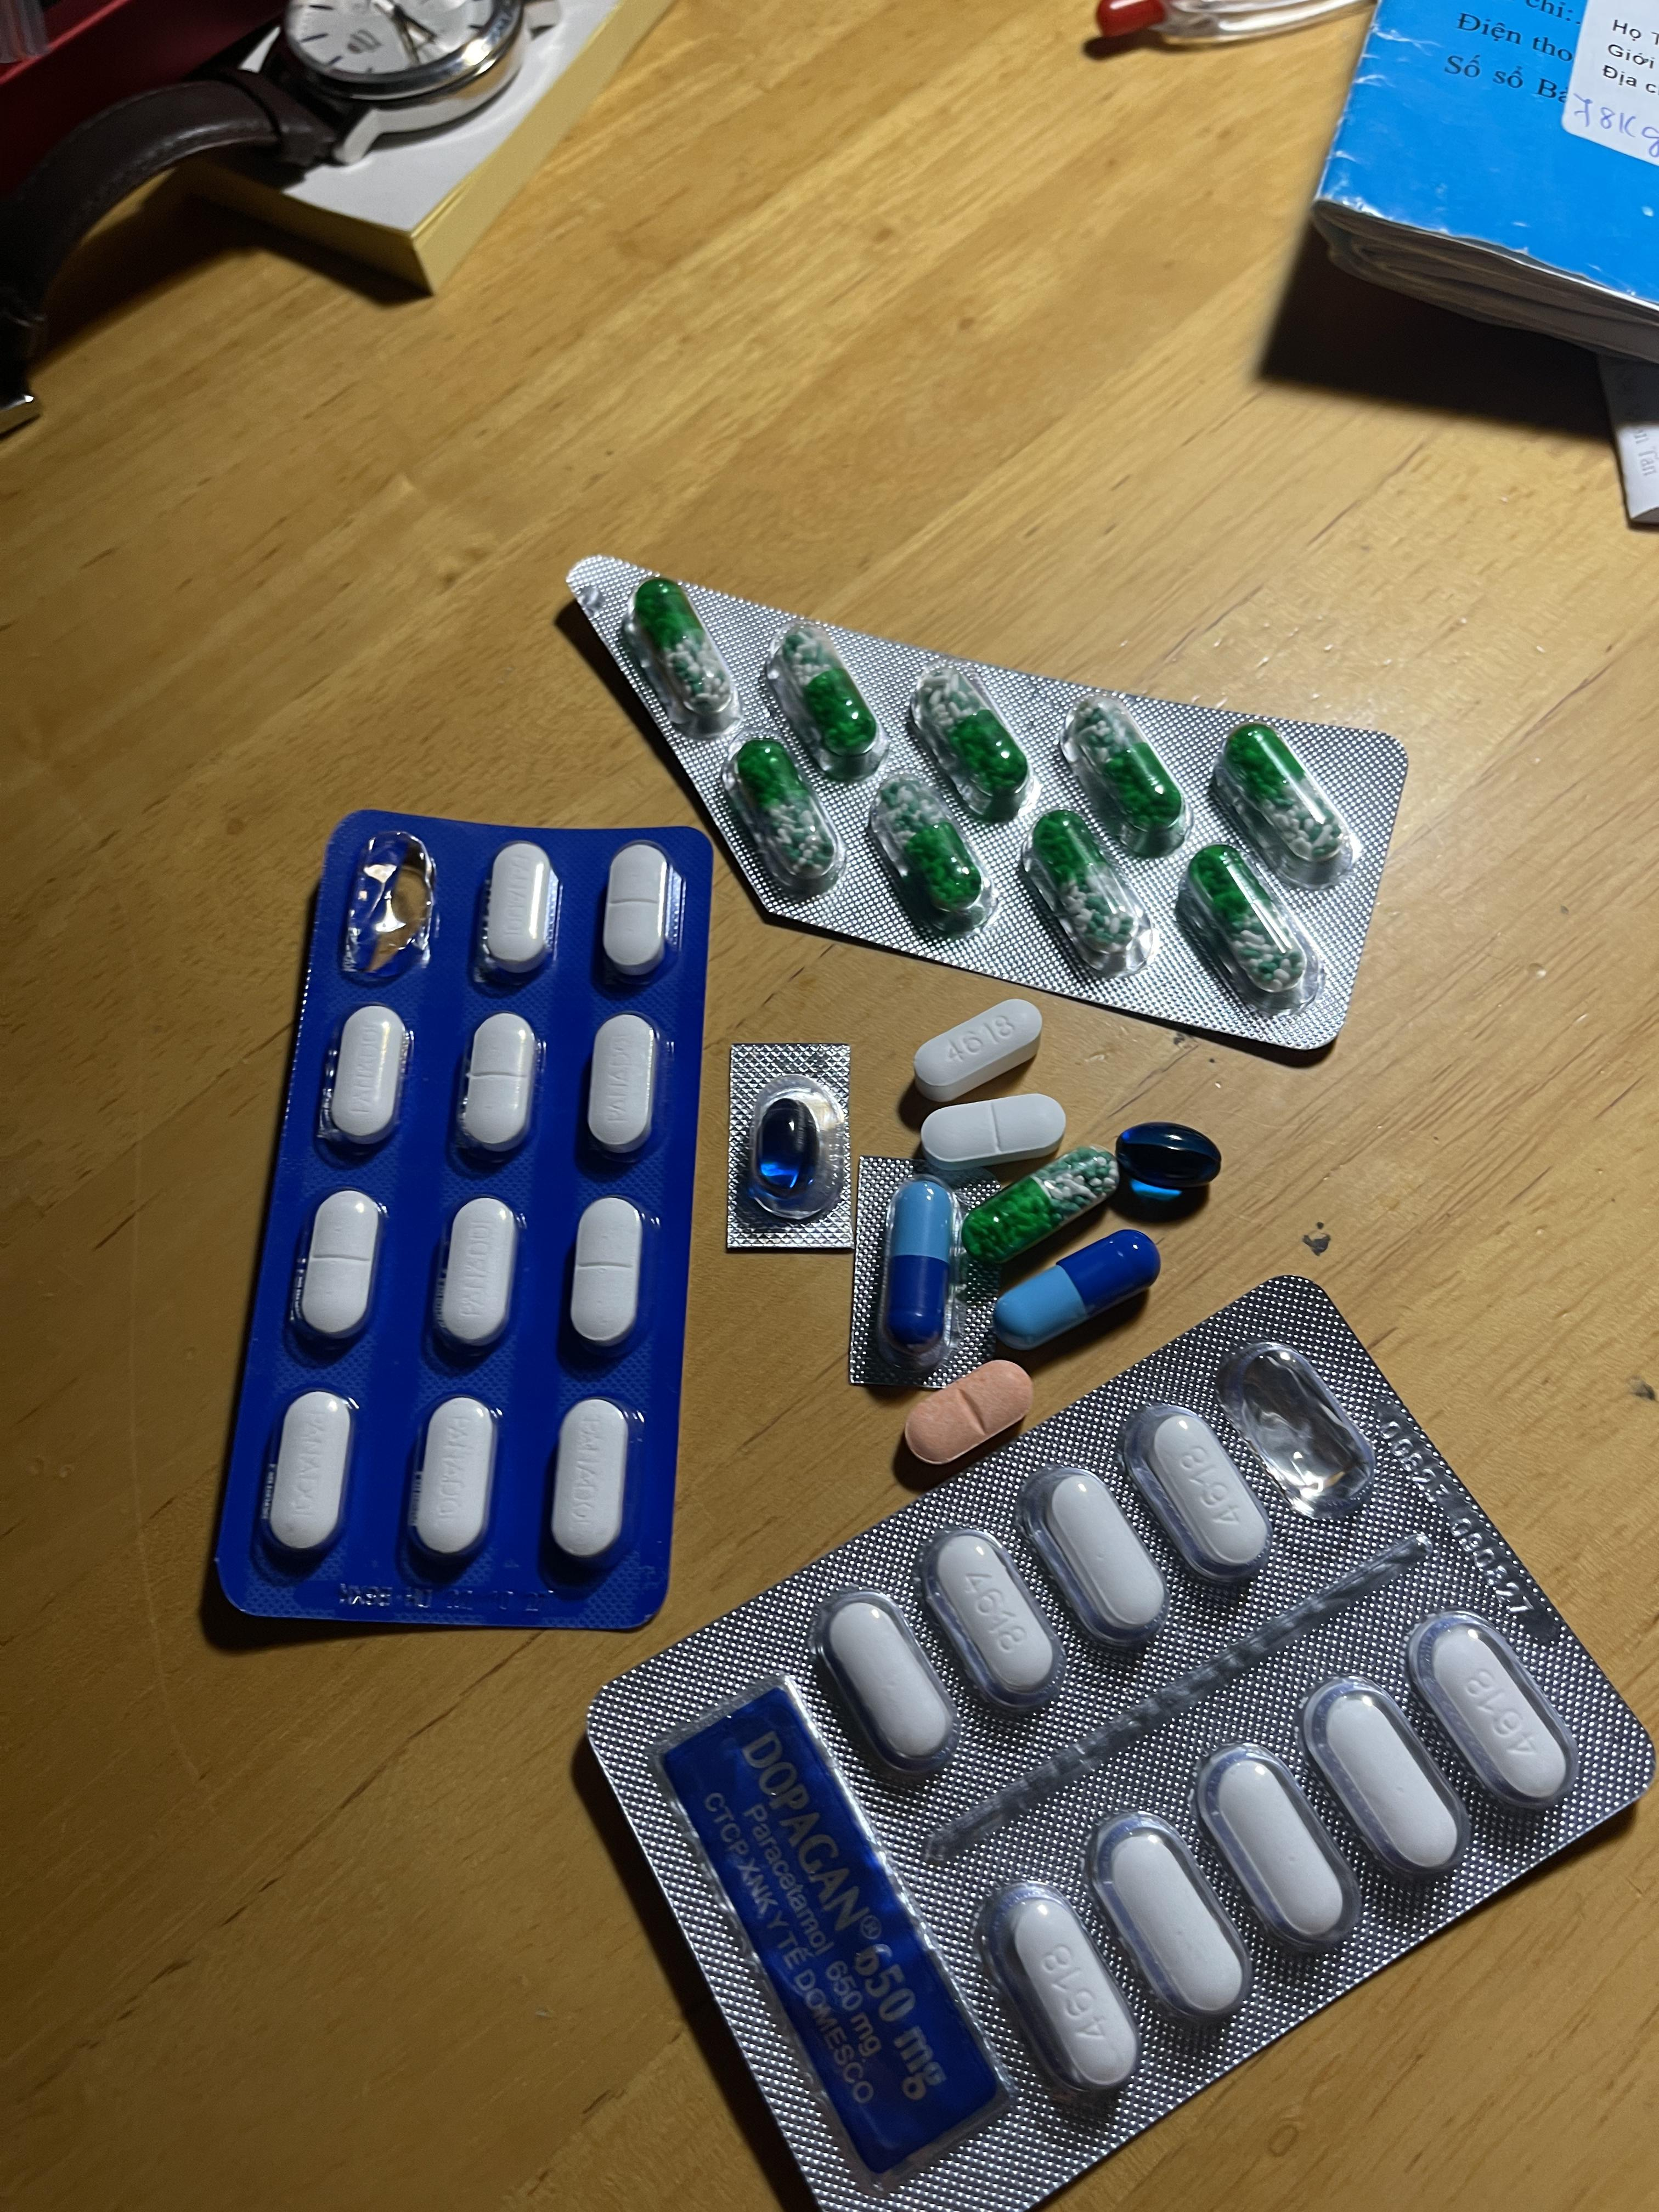Lincomyxin_500mg: (1114, 1123, 1220, 1202), (756, 1101, 817, 1191)
Loratadine_10mg: (903, 1364, 1035, 1465)
Paracetamol_350mg: (411, 1397, 497, 1562), (268, 1392, 354, 1554), (549, 1400, 631, 1566), (300, 1190, 383, 1343), (437, 1197, 521, 1350), (918, 1094, 1066, 1177), (570, 1197, 648, 1348), (460, 1012, 538, 1155), (329, 1007, 406, 1143), (586, 1014, 659, 1155), (601, 845, 671, 972), (484, 845, 556, 968)
Paracetamol_500mg: (1192, 1742, 1358, 1958), (1298, 1676, 1467, 1886), (814, 1585, 958, 1782), (1121, 1404, 1272, 1588), (915, 1526, 1063, 1712), (1019, 1468, 1168, 1649), (1105, 1825, 1236, 2010), (1432, 1627, 1567, 1803), (1004, 1898, 1127, 2088), (911, 1000, 1047, 1096)
Paracetamol_650mg: (962, 1144, 1119, 1268), (1187, 848, 1302, 989), (1222, 726, 1342, 860), (913, 662, 1025, 806), (1030, 815, 1138, 958), (735, 737, 836, 881), (1070, 700, 1180, 833), (633, 578, 732, 719), (875, 779, 979, 911), (788, 632, 880, 752)
pill: (997, 1224, 1159, 1353), (882, 1177, 957, 1359)
